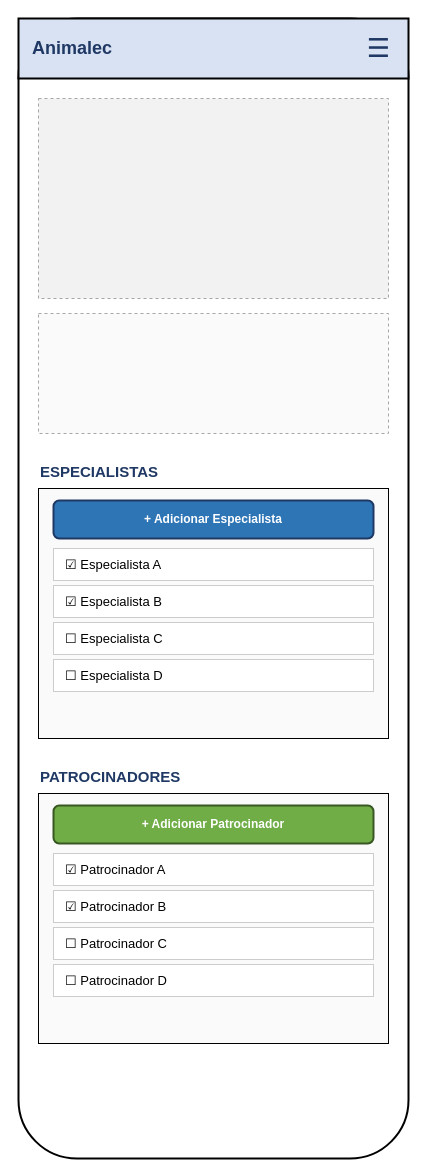
Image size: 426x1176. Some labels were removed from this diagram. Each missing label, with the centre of its shape:
"[ Imagem do Animal ]" goes at point 213,198.
"[ Nome / Descrição / Habitat ]" goes at point 213,373.
